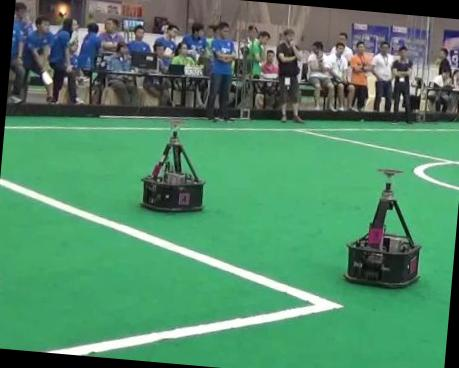person: (207, 22, 235, 121), (276, 29, 302, 122)
robot: (345, 183, 418, 287), (141, 131, 203, 210)
